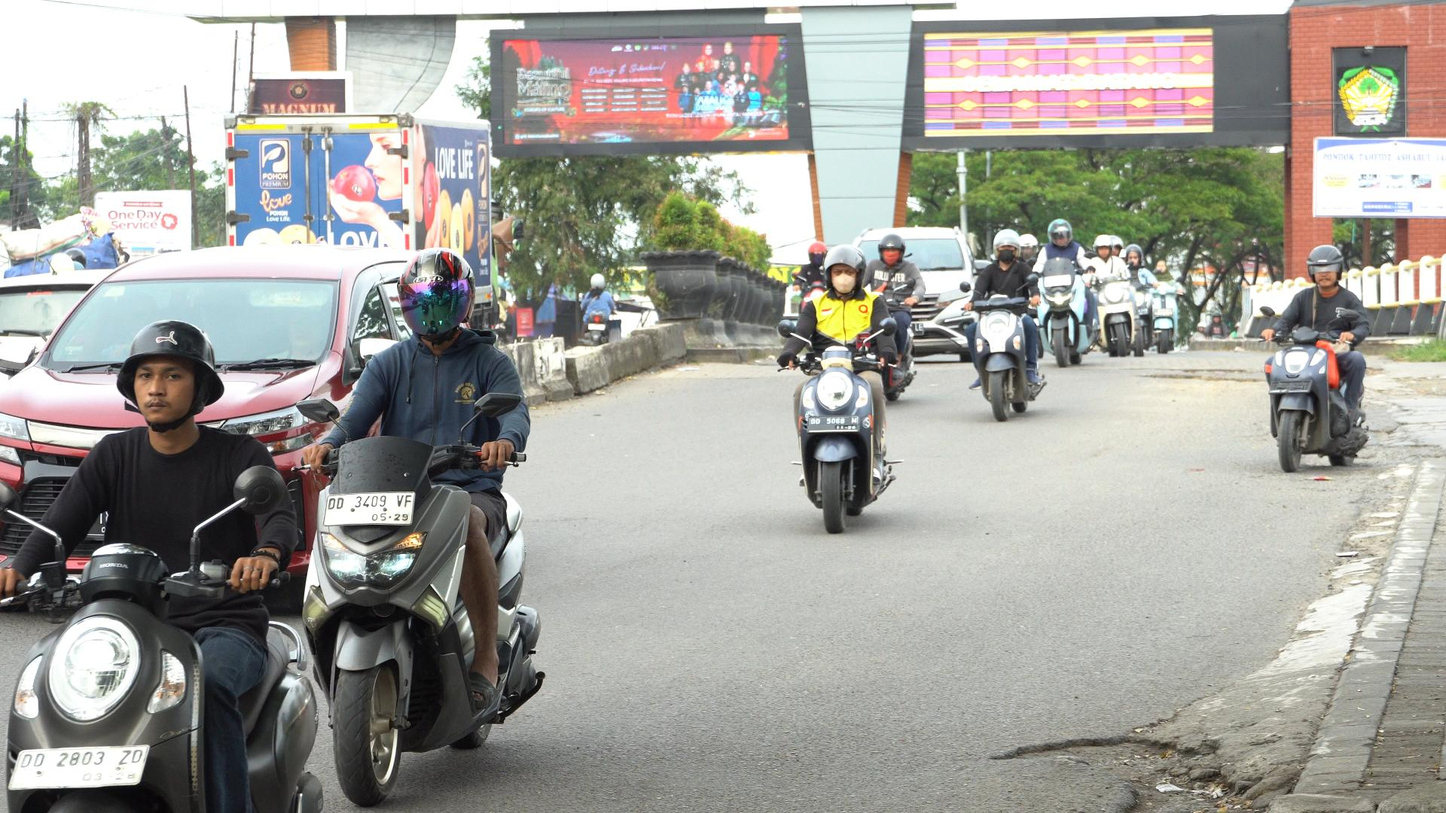number-plate: (11, 744, 146, 788), (321, 489, 412, 531), (803, 413, 863, 438)
